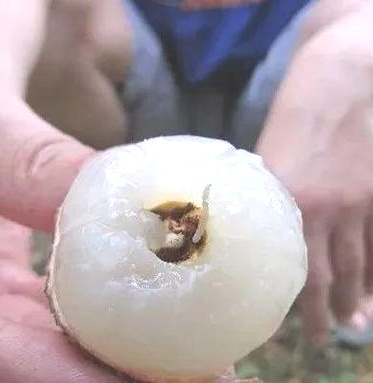Borer: (175, 181, 217, 253)
